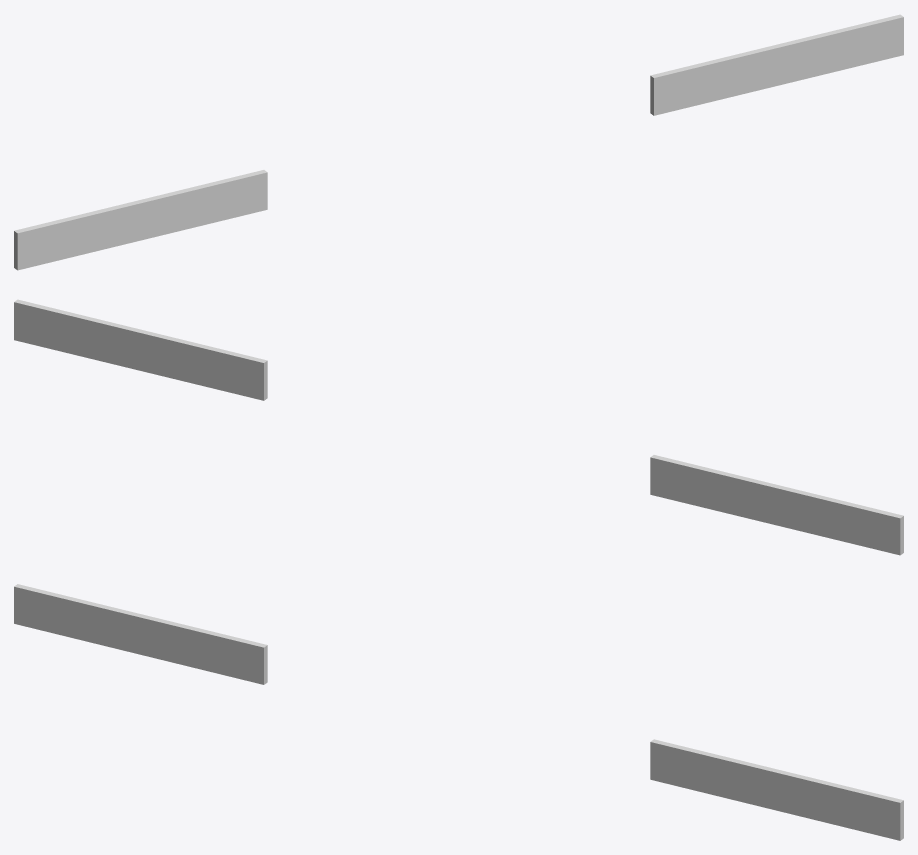
Rendered from Plinth2_C1.fbx.
3 views of the same model, one above another, from view 1: azimuth 30°, elevation 25°; view 2: azimuth 150°, elevation 25°; view 3: azimuth 330°, elevation 25° (orthographic).
Visible parts, largest first — view 1: Plinth2_C1; view 2: Plinth2_C1; view 3: Plinth2_C1.
Part boxes in pixels (x1,y1,x2,y2): Plinth2_C1: (14, 14, 903, 270); Plinth2_C1: (14, 299, 903, 555); Plinth2_C1: (14, 584, 903, 840).
Size of the model in its own units: 250 by 10.25 by 1.77.
